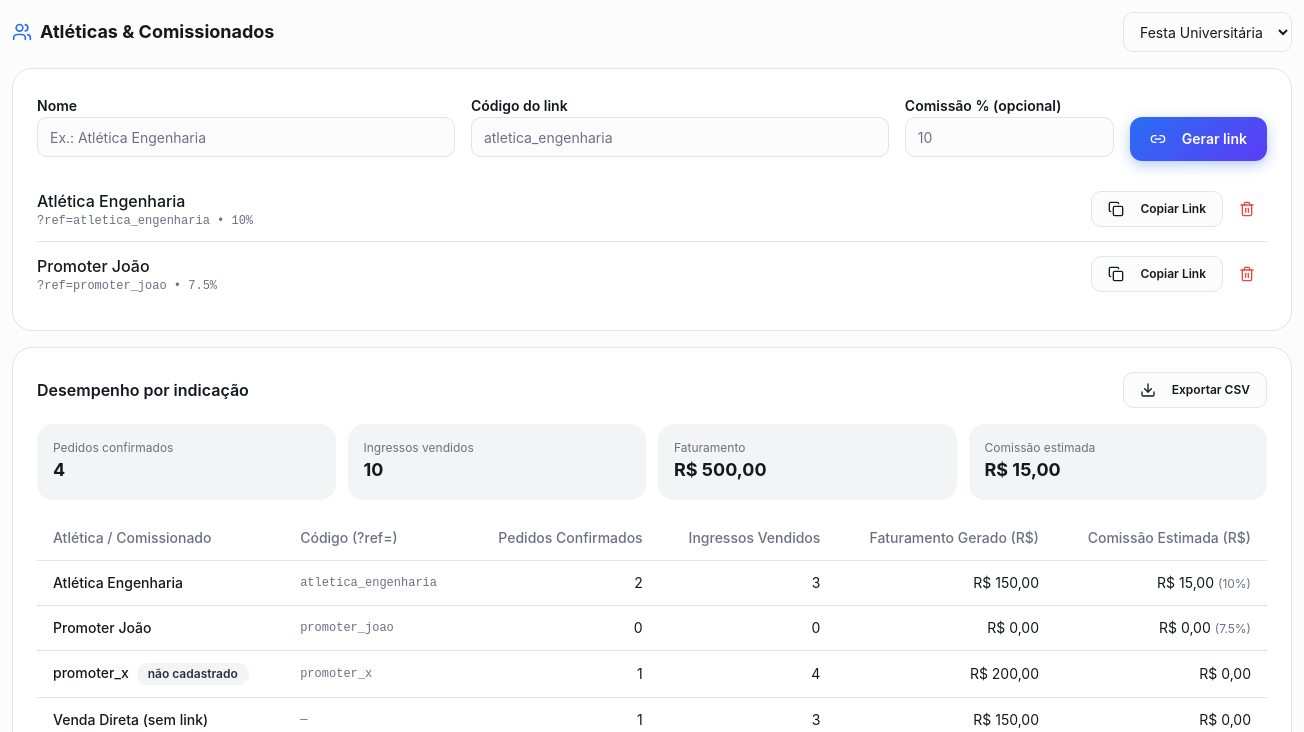
Test: Atléticas & Comissionados — relatório › trocar de evento recarrega comissionados e vendas do outro evento
expect the row with test id "row-atletica_engenharia" is shown: met, box x1=37 y1=560 x2=1267 y2=606
Select "Show de Verão" in the dropdown named "Evento dos comissionados": (1208, 32) x1=1123 y1=12 x2=1292 y2=52
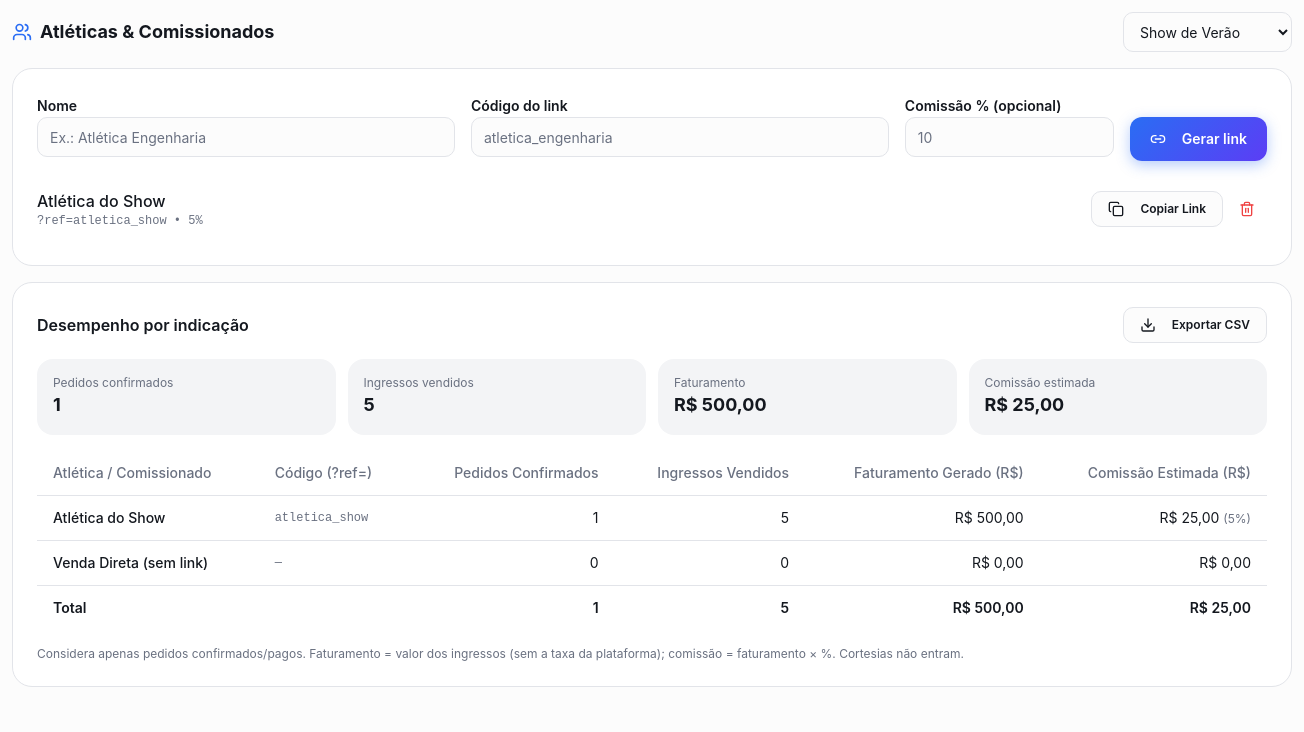
expect the row with test id "row-atletica_show" shows "Atlética do Show": met, box x1=53 y1=509 x2=166 y2=526
expect the row with test id "row-atletica_engenharia" is gone: met
expect the text with test id "summary-Ingressos vendidos" reads "5": met, box x1=364 y1=394 x2=375 y2=415
